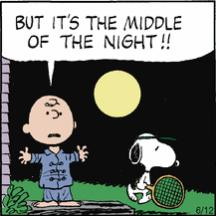charlie: (18, 94, 90, 208)
snoopy: (126, 133, 186, 209)
